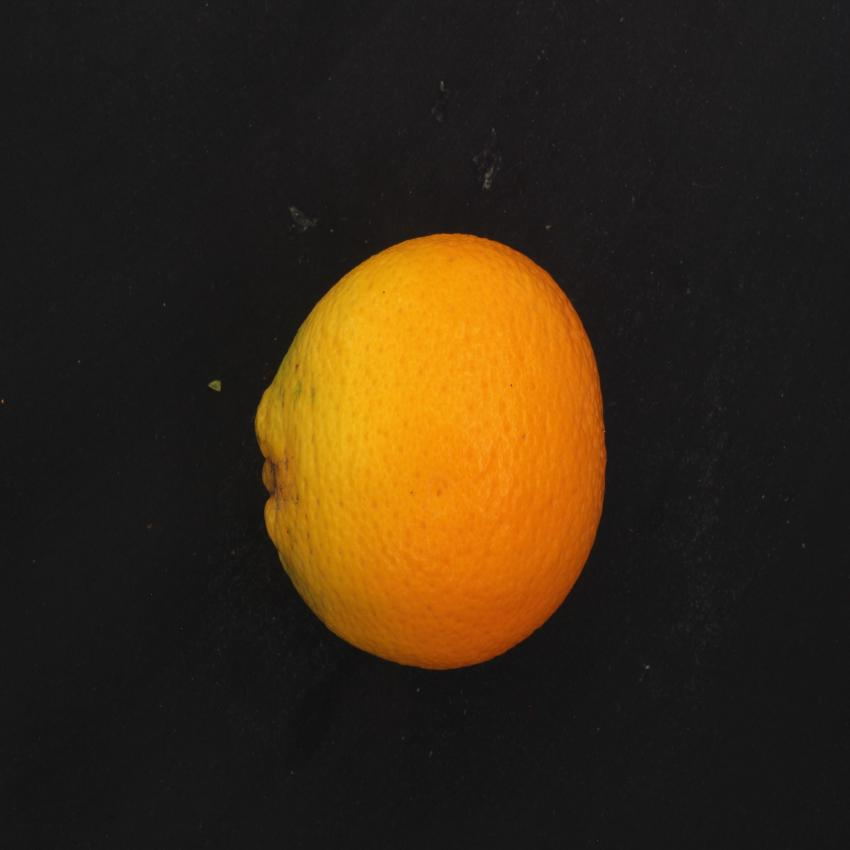Buen estado: (252, 224, 616, 676)
